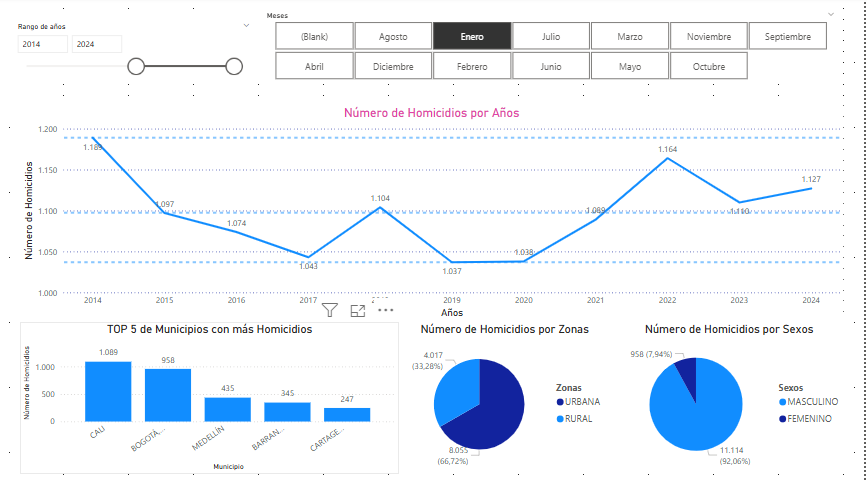

The page's visual inventory and layout, read from the dashboard file:
{"tool":"powerbi","page":{"name":"Page 2","canvas":[1280,720],"ordinal":2},"visuals":[{"type":"slicer","fields":{"Values":["DIM_Fechas.Annio"]},"box":[16,40,280,144],"z":0},{"type":"lineChart","title":"Número de Homicidios por Años","fields":{"Category":["DIM_Fechas.Annio"],"Y":["Sum(FAC_Homicidios.Cantidad)"]},"box":[304,224,944,256],"z":1},{"type":"columnChart","fields":{"Category":["DIM_Municipios.NomMpio"],"Y":["Sum(FAC_Homicidios.Cantidad)"]},"box":[32,480,560,224],"z":2},{"type":"pieChart","title":"Número de Homicidios por Zonas","fields":{"Category":["DIM_Zonas.NomZona"],"Y":["Sum(FAC_Homicidios.Cantidad)"]},"box":[592,480,312,224],"z":3},{"type":"pieChart","title":"Número de Homicidios por Zonas","fields":{"Y":["Sum(FAC_Homicidios.Cantidad)"],"Category":["DIM_Sexos.NomSexo"]},"box":[904,480,352,224],"z":4},{"type":"slicer","fields":{"Values":["DIM_Meses.NomMes"]},"box":[368,16,888,120],"z":5}]}

Visuals, with their boxes in screenshot pixels (x1, y1, x2, y2), scaled from the page's 1280x720 canvas onto the 867x480 screenshot:
slicer - DIM_Fechas.Annio: (left=11, top=27, right=200, bottom=123)
"Número de Homicidios por Años" lineChart: (left=206, top=149, right=845, bottom=320)
columnChart - DIM_Municipios.NomMpio x Sum(FAC_Homicidios.Cantidad): (left=22, top=320, right=401, bottom=469)
"Número de Homicidios por Zonas" pieChart: (left=401, top=320, right=612, bottom=469)
"Número de Homicidios por Zonas" pieChart: (left=612, top=320, right=851, bottom=469)
slicer - DIM_Meses.NomMes: (left=249, top=11, right=851, bottom=91)
